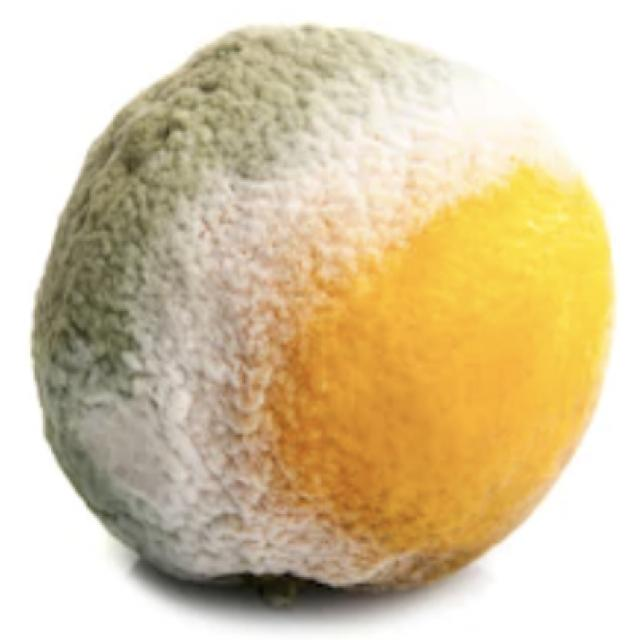rotten-orange: (30, 25, 609, 595)
